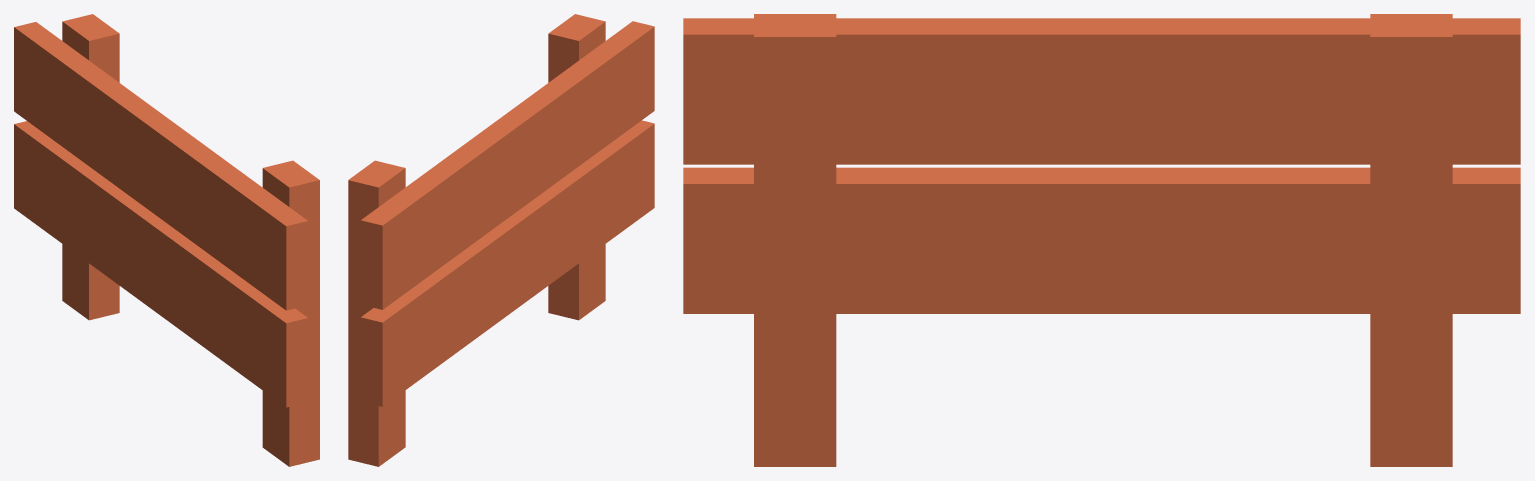
The model's file is portal.dae.
3 views of the same model, side by side, from view 1: azimuth 30°, elevation 25°; view 2: azimuth 150°, elevation 25°; view 3: azimuth 270°, elevation 25° (orthographic). The views are drawn at different scales.
Parts seen in each view (by area): view 1: Cube; view 2: Cube; view 3: Cube.
Boxes of the visible parts, box(x1,y1,x2,y2) form: Cube: box(14, 14, 319, 466); Cube: box(348, 14, 654, 466); Cube: box(683, 14, 1520, 466).
Size of the model in its own units: 0.1067 by 0.8879 by 0.5031.
